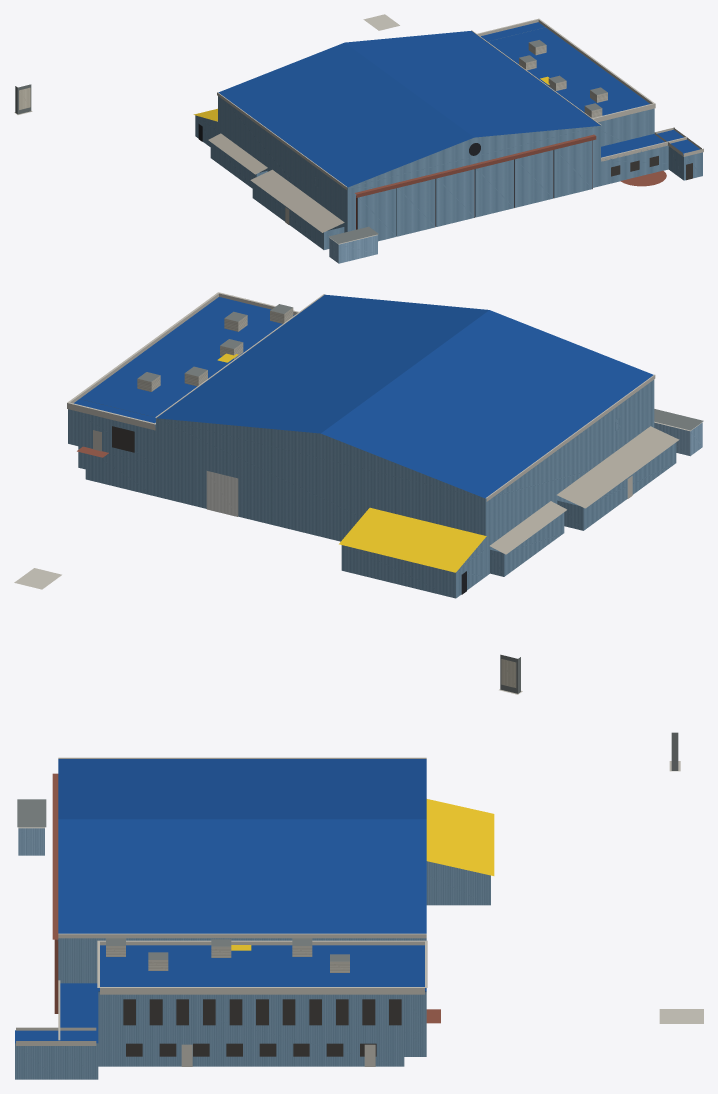
File: cyxd_hangar30_lod2.gltf
The picture shows the model from 3 angles, top to bottom: view 1: azimuth 30°, elevation 25°; view 2: azimuth 150°, elevation 25°; view 3: azimuth 270°, elevation 25°; orthographic projection. The views are drawn at different scales.
Parts seen in each view (by area): view 1: cyxd_hangar30; view 2: cyxd_hangar30; view 3: cyxd_hangar30.
Part boxes in pixels (x1=…): cyxd_hangar30: x1=14, y1=14, x2=703, y2=263; cyxd_hangar30: x1=14, y1=292, x2=703, y2=694; cyxd_hangar30: x1=15, y1=732, x2=703, y2=1079.
Size of the model in its own units: 67.2 by 11.2 by 62.2.
